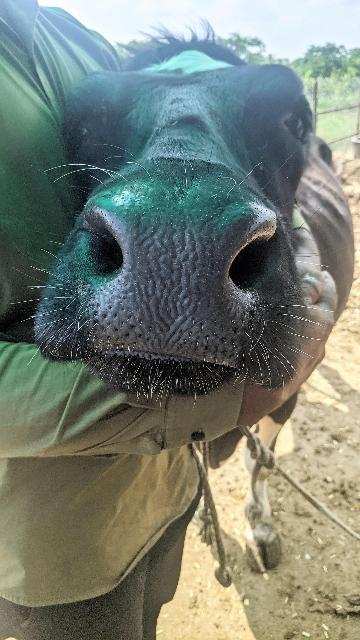Muzzle: (85, 198, 255, 362)
